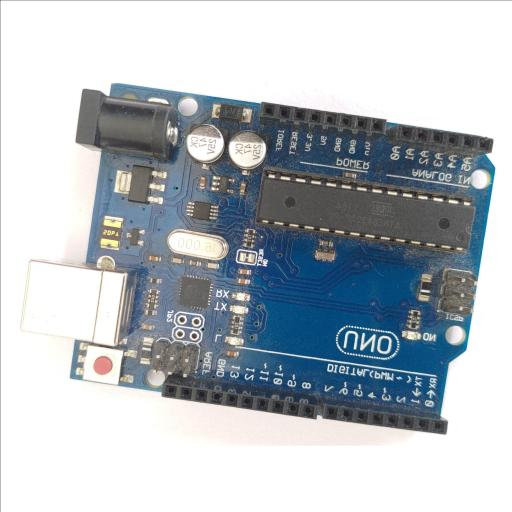Arduino Uno R3: (23, 81, 497, 436)
